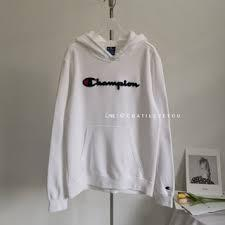sweater: (49, 29, 176, 211)
